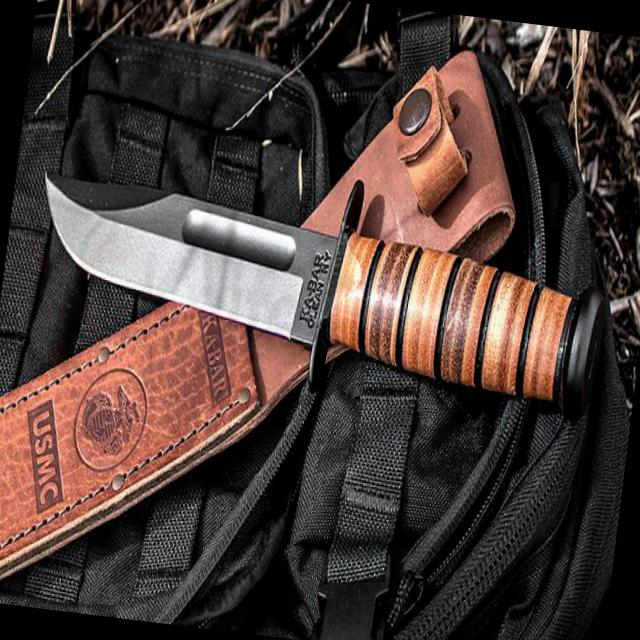knife: (15, 148, 369, 387)
